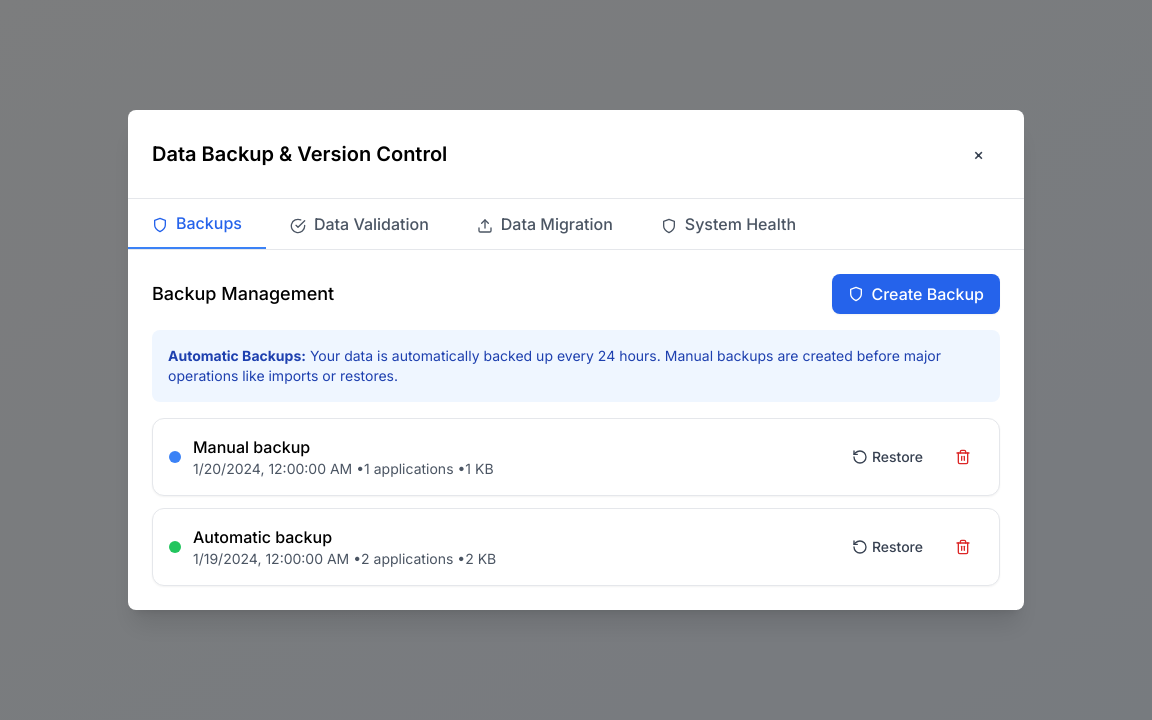
Scenario: BackupManager › Validation Tab › should switch to validation tab
Click the button "Data Validation" at (359, 224), box [266, 199, 453, 249]
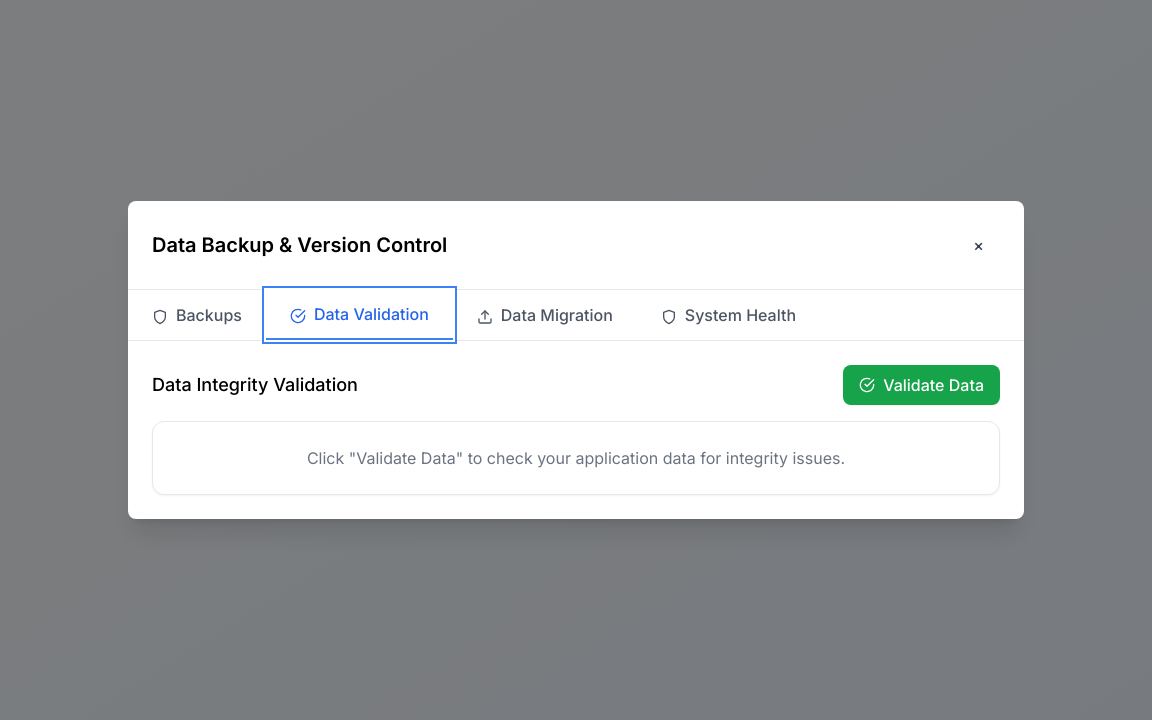
Expected: the heading "Data Integrity Validation" is shown, [152, 371, 358, 399]
Expected: the button "Validate Data" is shown, [843, 365, 1000, 405]
